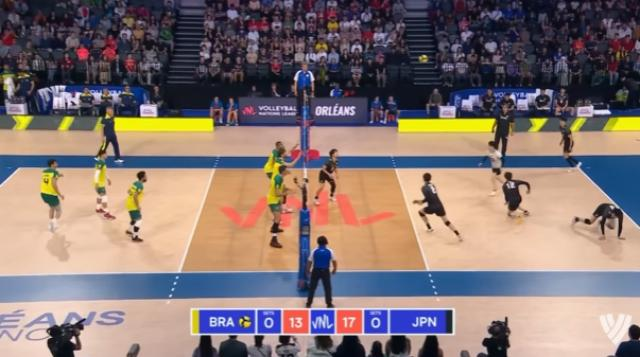Levantador: (115, 164, 161, 244), (312, 135, 350, 217)
Libero: (468, 131, 514, 197)
bola: (416, 45, 434, 71)
